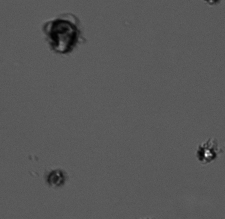Dead Cell: (43, 17, 82, 54), (46, 168, 66, 189)
Living Cell: (197, 142, 217, 163)
